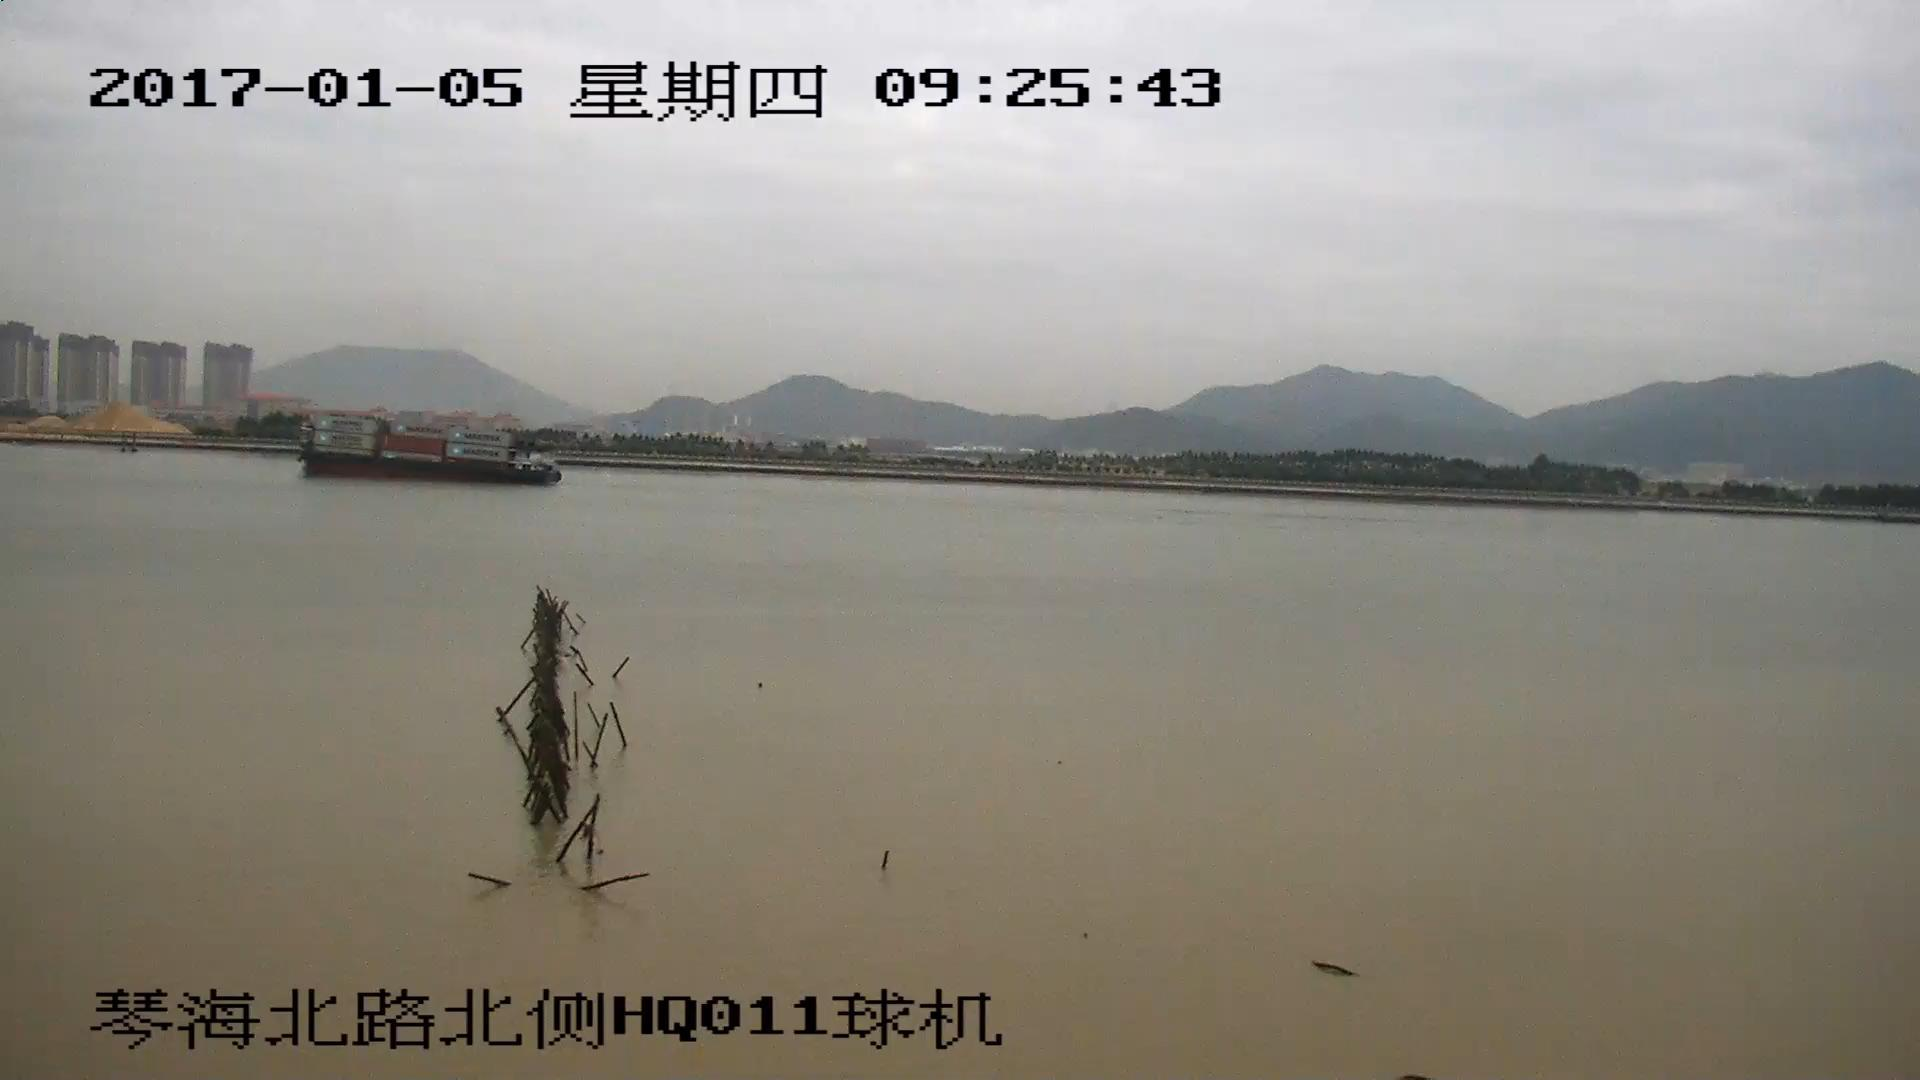Ship: (297, 419, 559, 488)
